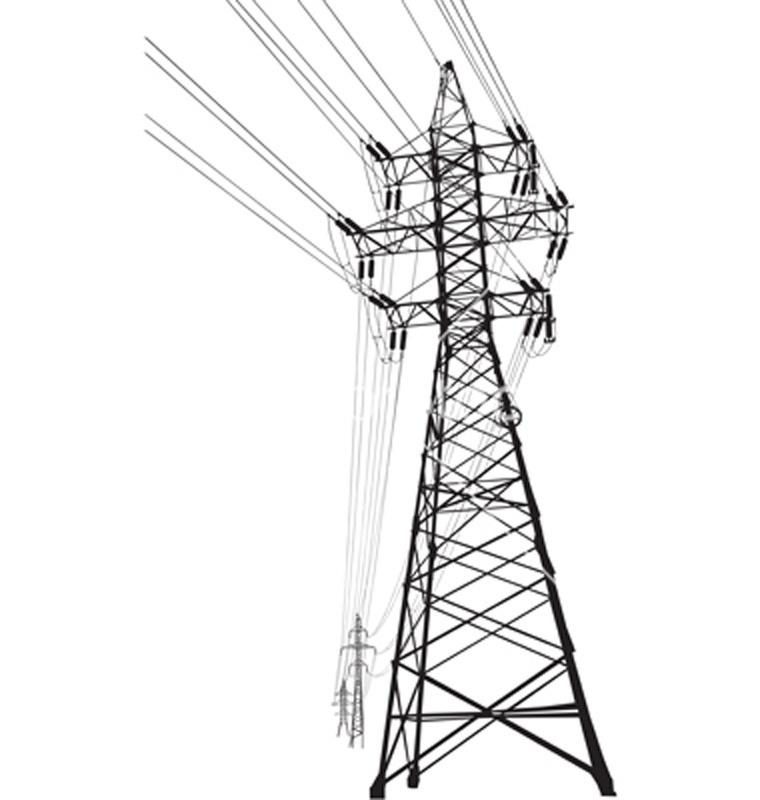power_tower: (353, 81, 635, 779)
